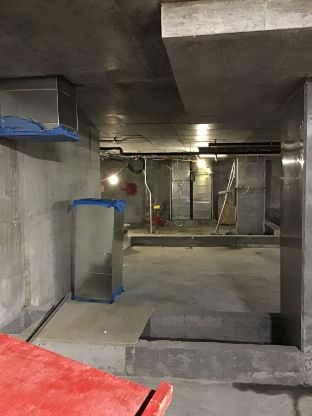Duct: (62, 195, 132, 307), (1, 69, 87, 146), (164, 152, 218, 224)
